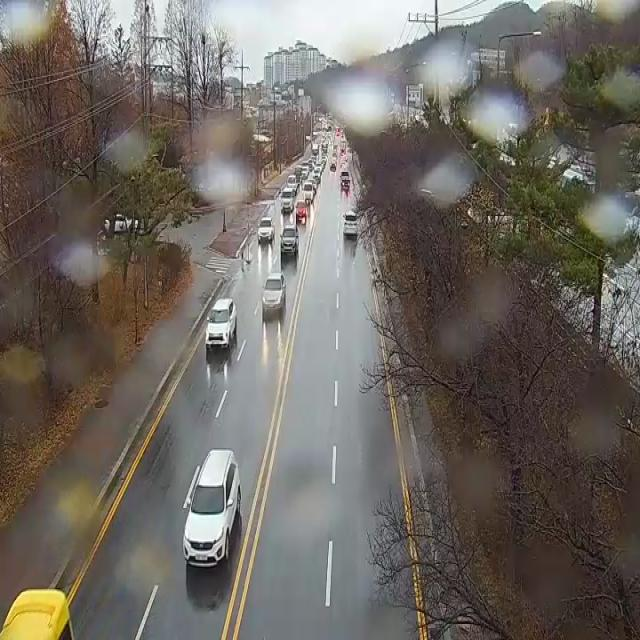Bus: (0, 589, 75, 640)
Car: (182, 449, 241, 568), (206, 298, 236, 348), (262, 273, 286, 310), (105, 214, 138, 230), (280, 226, 298, 253), (258, 217, 274, 241), (343, 211, 357, 235), (280, 188, 294, 212), (302, 182, 314, 200), (295, 201, 307, 218), (288, 174, 298, 193), (340, 172, 350, 190), (308, 179, 317, 194), (295, 167, 302, 182), (313, 170, 321, 183), (302, 166, 308, 178), (330, 163, 336, 170)
Truck: (312, 143, 319, 160)
